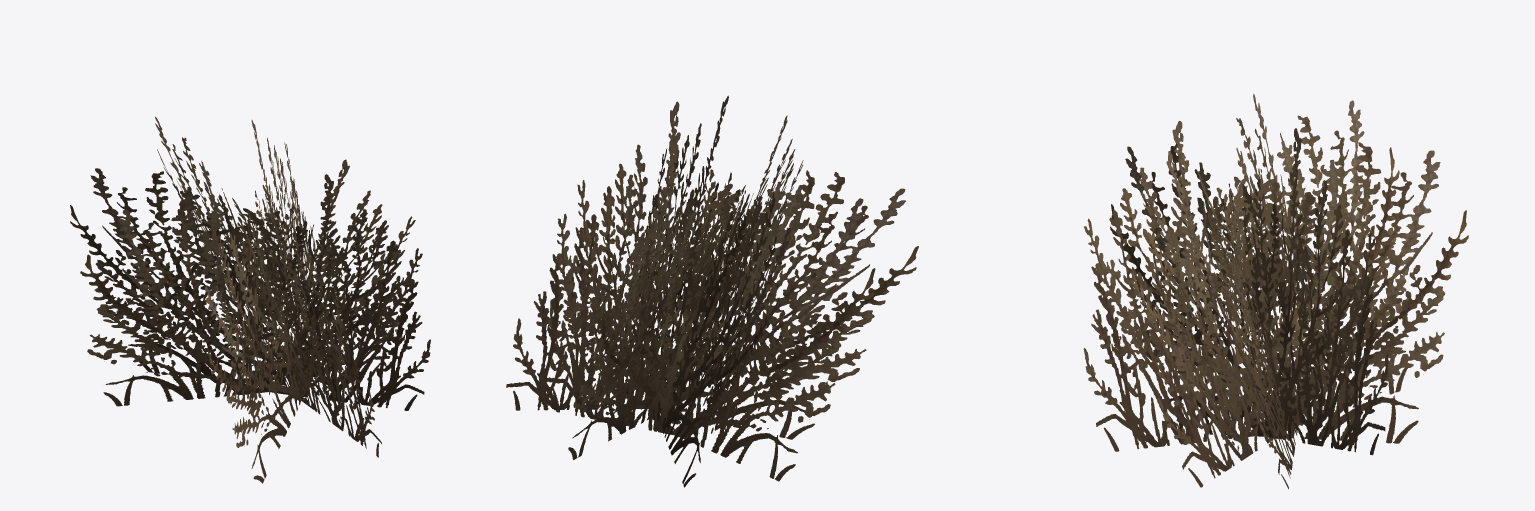
File: xy_plant03.FBX
3 views of the same model, side by side, from view 1: azimuth 30°, elevation 25°; view 2: azimuth 150°, elevation 25°; view 3: azimuth 270°, elevation 25° (orthographic). The views are drawn at different scales.
Parts seen in each view (by area): view 1: xy_plant03; view 2: xy_plant03; view 3: xy_plant03.
Boxes of the visible parts, x1,y1,x2,y2 form: xy_plant03: (70,116,430,483); xy_plant03: (506,95,918,487); xy_plant03: (1083,94,1468,489).
Bounding box in the file's own units: 113 × 102 × 114.
